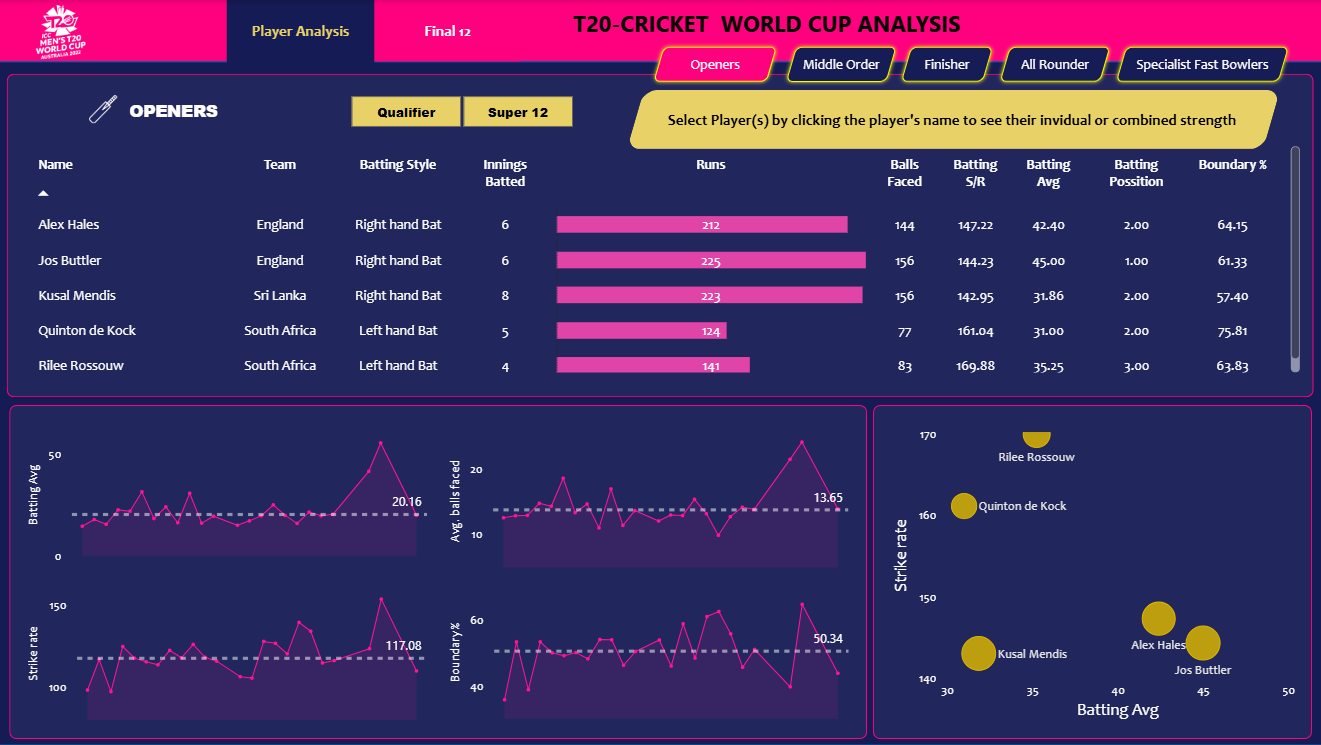

This screenshot's page, from the dashboard's own definition file:
{"tool":"powerbi","page":{"name":" Project-Opener","canvas":[1280,720],"ordinal":0},"visuals":[{"type":"shape","box":[0,59.5,1279.3,660.5],"z":0},{"type":"shape","box":[8.1,71,1261.3,312.3],"z":1000},{"type":"shape","box":[61.1,82.8,215.9,46.2],"z":2000},{"type":"shape","box":[845,390.3,423.7,322.5],"z":3000},{"type":"image","box":[70.6,86.9,61.1,36.7],"z":4000},{"type":"slicer","fields":{"Values":["t20_match_summary.stage"]},"box":[315.4,86,264.2,44],"z":5000},{"type":"tableEx","fields":{"Values":["t20_players_info.name","t20_players_info.team","t20_players_info.battingStyle","Key_Measures.Total Innings Batted","Key_Measures.Total Runs","Key_Measures.total balls faced","Key_Measures.Strike rate","Key_Measures.Batting Avg","Key_Measures.Batting Possition","Key_Measures.Boundary %"]},"box":[27.2,135.8,1234.1,228.1],"z":6000},{"type":"shape","box":[607.2,86.9,630.7,57.1],"z":7000},{"type":"card","fields":{"Values":["Key_Measures.Batting Avg"]},"box":[844.5,80,94.6,66.2],"z":8000},{"type":"card","fields":{"Values":["Key_Measures.Boundary %"]},"box":[1097.2,80,104.1,63.5],"z":9000},{"type":"card","fields":{"Values":["Key_Measures.Strike rate"]},"box":[922.9,80,108.1,63.5],"z":10000},{"type":"card","fields":{"Values":["Key_Measures.Avg. balls faced"]},"box":[1005.3,80,116.2,64.9],"z":11000},{"type":"shape","box":[643.8,96,201.1,39.3],"z":12000},{"type":"shape","box":[10.7,390.3,828,322.5],"z":13000},{"type":"actionButton","box":[628.4,41,127.3,42],"z":14000},{"type":"actionButton","box":[867.7,41,97,42],"z":15000},{"type":"actionButton","box":[962.4,41,115,42],"z":16000},{"type":"actionButton","box":[1074.6,41,174.9,42],"z":17000},{"type":"areaChart","fields":{"Y":["Key_Measures.Batting Avg"],"Category":["t20_match_summary.matchDate.Variation.Date Hierarchy.Year","t20_match_summary.matchDate.Variation.Date Hierarchy.Month","t20_match_summary.matchDate.Variation.Date Hierarchy.Day"]},"box":[23.8,404.6,395,146.4],"z":18000},{"type":"areaChart","fields":{"Y":["Key_Measures.Avg. balls faced"],"Category":["t20_match_summary.matchDate.Variation.Date Hierarchy.Year","t20_match_summary.matchDate.Variation.Date Hierarchy.Month","t20_match_summary.matchDate.Variation.Date Hierarchy.Day"]},"box":[430.8,407,395,146.4],"z":19000},{"type":"areaChart","fields":{"Y":["Key_Measures.Strike rate"],"Category":["t20_match_summary.matchDate.Variation.Date Hierarchy.Year","t20_match_summary.matchDate.Variation.Date Hierarchy.Month","t20_match_summary.matchDate.Variation.Date Hierarchy.Day"]},"box":[23.8,553.4,395,146.4],"z":20000},{"type":"areaChart","fields":{"Y":["Key_Measures.Boundary %"],"Category":["t20_match_summary.matchDate.Variation.Date Hierarchy.Year","t20_match_summary.matchDate.Variation.Date Hierarchy.Quarter","t20_match_summary.matchDate.Variation.Date Hierarchy.Month","t20_match_summary.matchDate.Variation.Date Hierarchy.Day"]},"box":[430.8,552.2,395.1,146.4],"z":21000},{"type":"actionButton","box":[221.3,0,142.6,61.1],"z":22000},{"type":"actionButton","box":[363.9,0,139.8,59.7],"z":23000},{"type":"shape","box":[631.9,103.5,577.2,23.8],"z":24000},{"type":"image","box":[10.9,0,99.1,62.5],"z":25000},{"type":"actionButton","box":[756.2,41,115,42.1],"z":26000},{"type":"scatterChart","fields":{"X":["Key_Measures.Batting Avg"],"Y":["Key_Measures.Strike rate"],"Category":["t20_players_info.name"],"Size":["Key_Measures.Total Runs"]},"box":[859.2,404.6,398.7,295.1],"z":27000},{"type":"textbox","box":[549.8,2.4,455.8,46.4],"z":28000}]}

Visuals, with their boxes on the page's 1280x720 design canvas (x1, y1, x2, y2). These are canvas units, not pixel positions in the 1321x745 screenshot, which may show the page scaled, cropped or inside an application window:
shape: <region>0, 60, 1279, 720</region>
shape: <region>8, 71, 1269, 383</region>
shape: <region>61, 83, 277, 129</region>
shape: <region>845, 390, 1269, 713</region>
image: <region>71, 87, 132, 124</region>
slicer - t20_match_summary.stage: <region>315, 86, 580, 130</region>
tableEx - t20_players_info.name x t20_players_info.team: <region>27, 136, 1261, 364</region>
shape: <region>607, 87, 1238, 144</region>
card - Key_Measures.Batting Avg: <region>844, 80, 939, 146</region>
card - Key_Measures.Boundary %: <region>1097, 80, 1201, 144</region>
card - Key_Measures.Strike rate: <region>923, 80, 1031, 144</region>
card - Key_Measures.Avg. balls faced: <region>1005, 80, 1122, 145</region>
shape: <region>644, 96, 845, 135</region>
shape: <region>11, 390, 839, 713</region>
actionButton: <region>628, 41, 756, 83</region>
actionButton: <region>868, 41, 965, 83</region>
actionButton: <region>962, 41, 1077, 83</region>
actionButton: <region>1075, 41, 1250, 83</region>
areaChart - Key_Measures.Batting Avg x t20_match_summary.matchDate.Variation.Date Hierarchy.Year: <region>24, 405, 419, 551</region>
areaChart - Key_Measures.Avg. balls faced x t20_match_summary.matchDate.Variation.Date Hierarchy.Year: <region>431, 407, 826, 553</region>
areaChart - Key_Measures.Strike rate x t20_match_summary.matchDate.Variation.Date Hierarchy.Year: <region>24, 553, 419, 700</region>
areaChart - Key_Measures.Boundary % x t20_match_summary.matchDate.Variation.Date Hierarchy.Year: <region>431, 552, 826, 699</region>
actionButton: <region>221, 0, 364, 61</region>
actionButton: <region>364, 0, 504, 60</region>
shape: <region>632, 104, 1209, 127</region>
image: <region>11, 0, 110, 62</region>
actionButton: <region>756, 41, 871, 83</region>
scatterChart - Key_Measures.Batting Avg x Key_Measures.Strike rate: <region>859, 405, 1258, 700</region>
textbox: <region>550, 2, 1006, 49</region>
